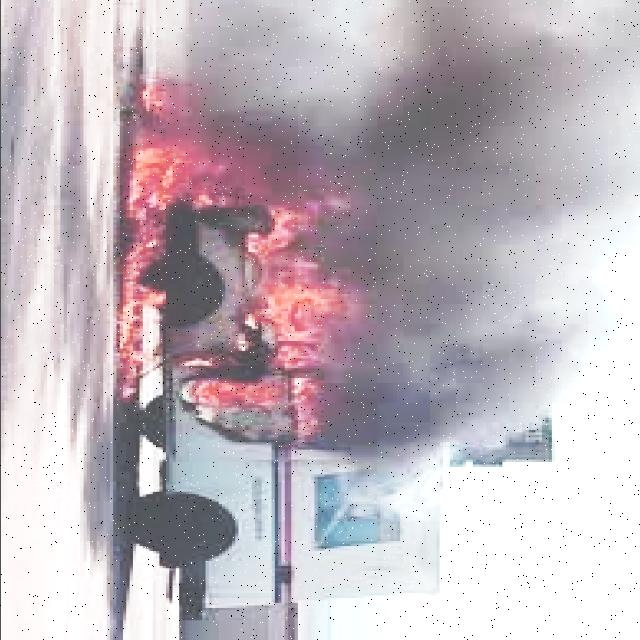api: (97, 73, 364, 456)
